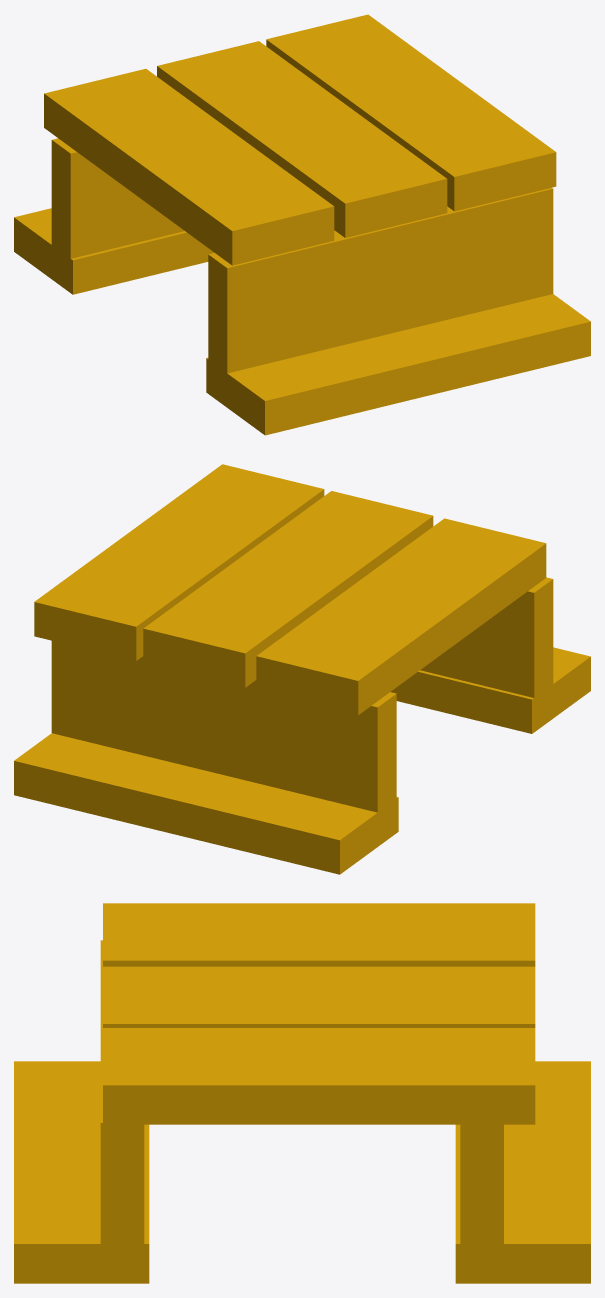
File: tunnel.fbx
3 views of the same model, one above another, from view 1: azimuth 30°, elevation 25°; view 2: azimuth 150°, elevation 25°; view 3: azimuth 270°, elevation 25° (orthographic). The views are drawn at different scales.
Parts seen in each view (by area): view 1: Plane.043, Plane.042, Plane.045, Plane.046, Plane.047, Plane.041, Plane.044; view 2: Plane.041, Plane.042, Plane.044, Plane.046, Plane.047, Plane.043, Plane.045; view 3: Plane.047, Plane.042, Plane.046, Plane.045, Plane.044, Plane.043, Plane.041.
Part boxes in pixels (left/top/right/bottom): Plane.043: left=208, top=187, right=553, bottom=374; Plane.042: left=44, top=68, right=334, bottom=265; Plane.045: left=206, top=294, right=590, bottom=435; Plane.046: left=157, top=41, right=447, bottom=237; Plane.047: left=266, top=14, right=556, bottom=211; Plane.041: left=51, top=138, right=184, bottom=259; Plane.044: left=14, top=208, right=214, bottom=294; Plane.041: left=51, top=641, right=396, bottom=813; Plane.042: left=256, top=518, right=546, bottom=715; Plane.044: left=14, top=733, right=398, bottom=874; Plane.046: left=143, top=491, right=433, bottom=687; Plane.047: left=34, top=464, right=324, bottom=660; Plane.043: left=420, top=577, right=553, bottom=699; Plane.045: left=391, top=647, right=590, bottom=733; Plane.047: left=103, top=1028, right=535, bottom=1124; Plane.042: left=103, top=903, right=535, bottom=966; Plane.046: left=103, top=966, right=535, bottom=1027; Plane.045: left=14, top=1061, right=149, bottom=1283; Plane.044: left=455, top=1061, right=590, bottom=1283; Plane.043: left=100, top=940, right=144, bottom=1245; Plane.041: left=460, top=1124, right=503, bottom=1245.
Bounding box in the file's own units: 814 × 412 × 1073.
